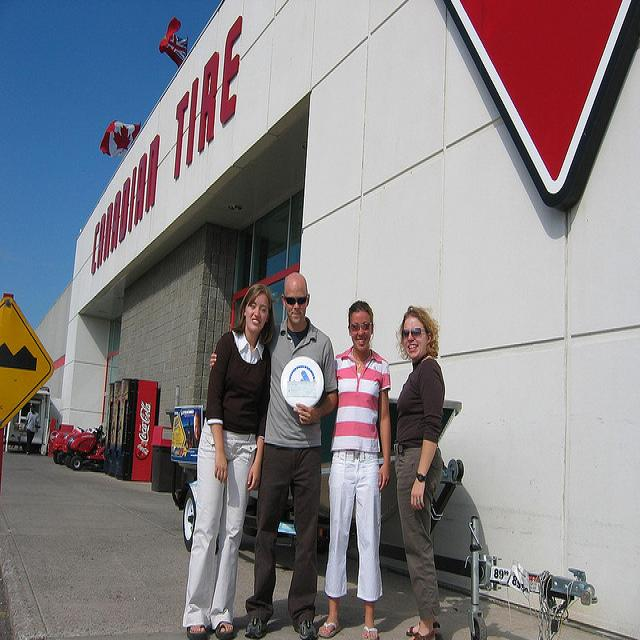motor: (64, 425, 107, 472)
